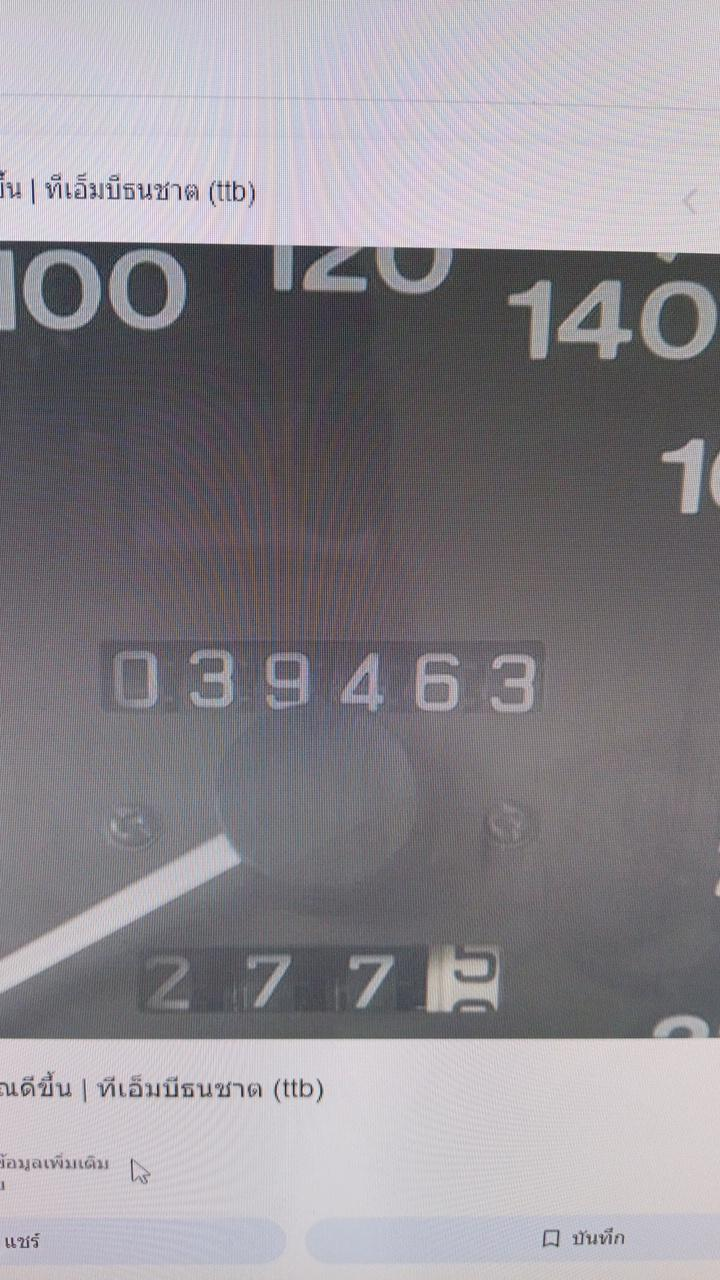0: (111, 649, 159, 710)
3: (186, 647, 236, 710), (490, 652, 536, 715)
4: (337, 650, 385, 715)
6: (414, 650, 461, 713)
9: (263, 651, 311, 713)
odometer: (99, 638, 546, 719)
